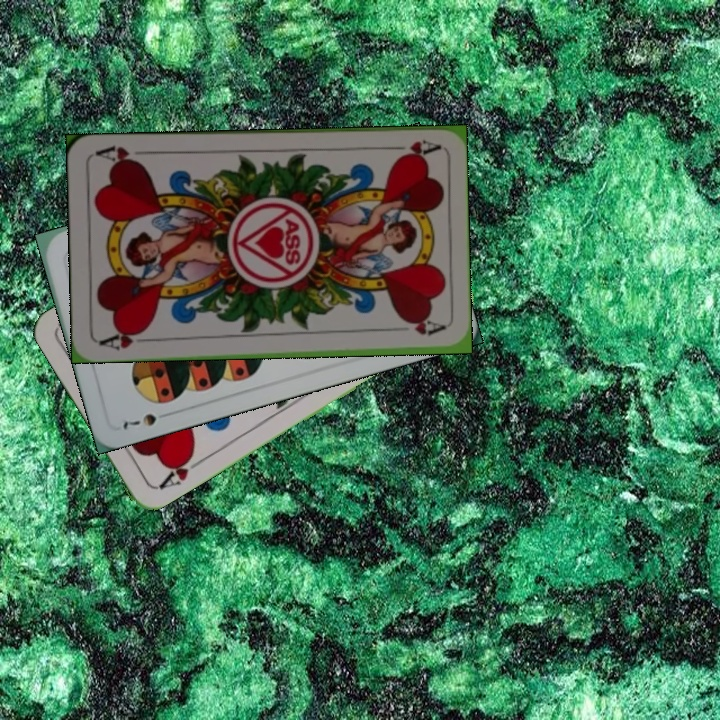HA: (152, 448, 206, 493), (96, 326, 155, 353), (381, 136, 440, 160)
S7: (117, 408, 174, 432)
